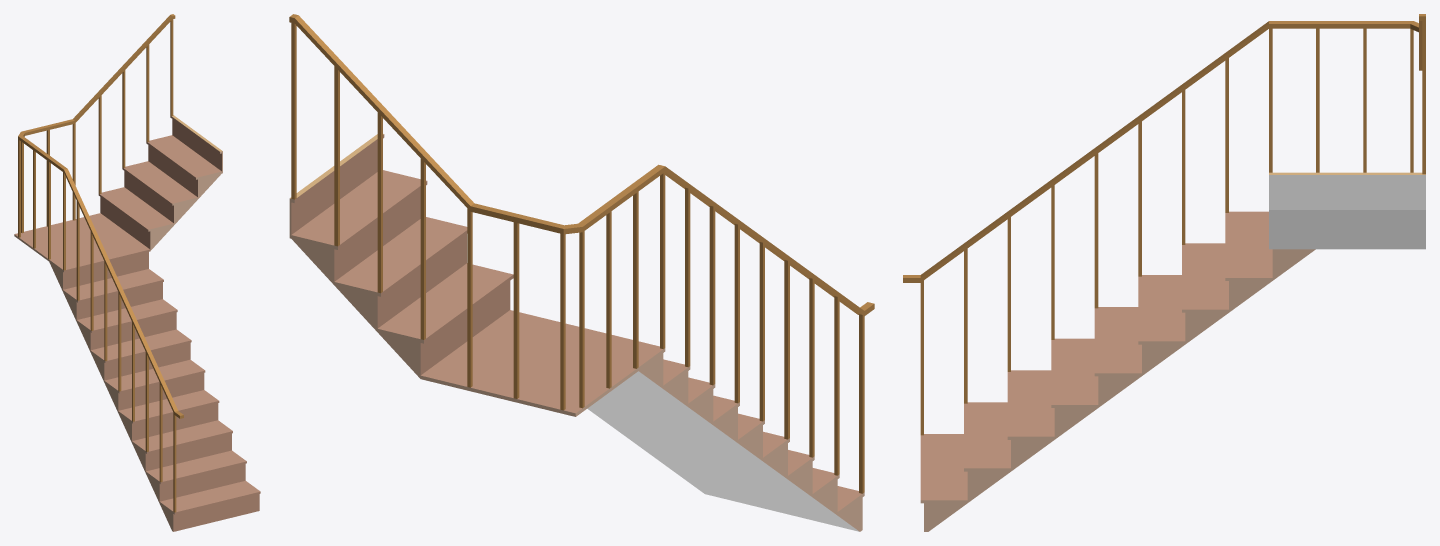
The model's file is sweethome3d-contributions-quarter-landing-staircase-449.glb.
3 renders of one model, left to right at view 1: azimuth 30°, elevation 25°; view 2: azimuth 150°, elevation 25°; view 3: azimuth 270°, elevation 25°, orthographic. The views are drawn at different scales.
Parts seen in each view (by area): view 1: 44_44, 28_28; view 2: 44_44, 28_28, 39_39; view 3: 44_44, 28_28, 39_39.
Boxes of the visible parts, box(x1,y1,x2,y2) form: 44_44: box(14, 115, 260, 531); 28_28: box(18, 14, 183, 512); 44_44: box(289, 134, 864, 531); 28_28: box(289, 14, 874, 493); 39_39: box(587, 371, 859, 531); 44_44: box(920, 172, 1425, 531); 28_28: box(903, 14, 1425, 435); 39_39: box(1269, 175, 1425, 249).
Size of the model in its own units: 166 by 362 by 300.
